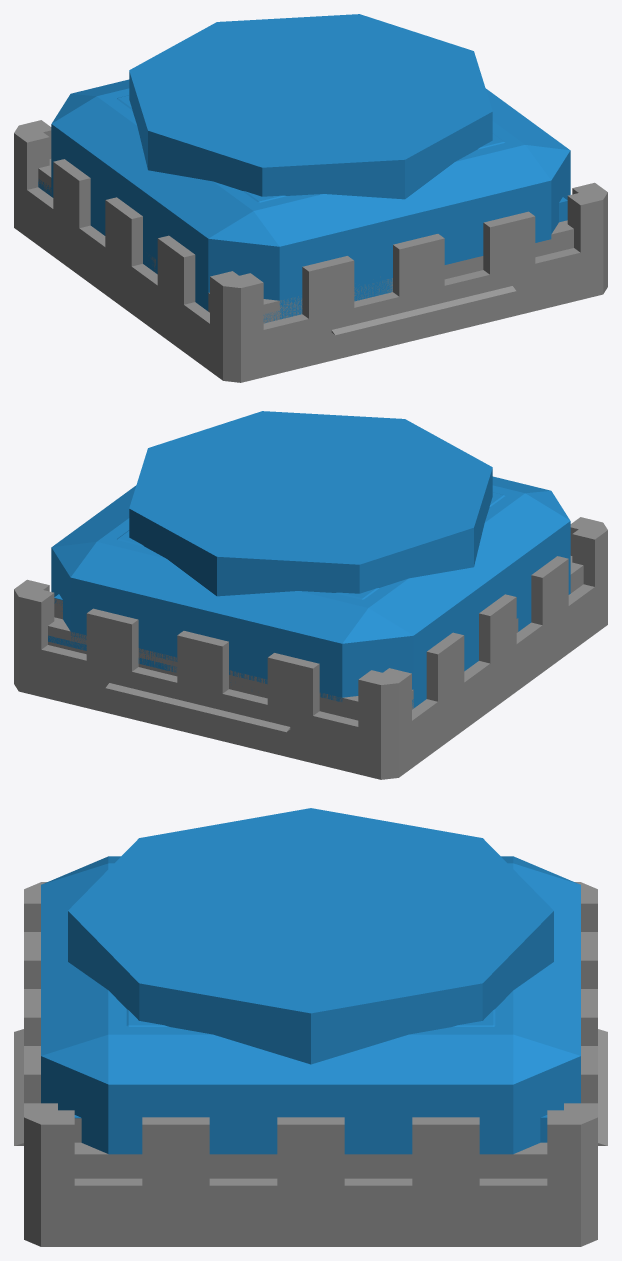
The model's file is ButtonDeluxeExport.FBX.
3 views of the same model, one above another, from view 1: azimuth 30°, elevation 25°; view 2: azimuth 150°, elevation 25°; view 3: azimuth 270°, elevation 25° (orthographic). The views are drawn at different scales.
Visible parts, largest first — view 1: ButtonMeshes17, ButtonMeshes12, ButtonMeshes11, ButtonMeshes32, ButtonMeshes14, ButtonMeshes06; view 2: ButtonMeshes17, ButtonMeshes12, ButtonMeshes11, ButtonMeshes14, ButtonMeshes32, ButtonMeshes06, ButtonMeshes13, ButtonMeshes05; view 3: ButtonMeshes17, ButtonMeshes11, ButtonMeshes12, ButtonMeshes08, ButtonMeshes14, ButtonMeshes32, ButtonMeshes06.
Boxes of the visible parts, x1,y1,x2,y2 form: ButtonMeshes17: (129,14,492,199); ButtonMeshes12: (14,120,607,382); ButtonMeshes11: (51,79,570,319); ButtonMeshes32: (331,286,515,335); ButtonMeshes14: (38,159,573,323); ButtonMeshes06: (208,233,573,312); ButtonMeshes17: (129,411,492,596); ButtonMeshes12: (14,517,607,779); ButtonMeshes11: (51,476,570,708); ButtonMeshes14: (48,556,583,709); ButtonMeshes32: (106,683,290,732); ButtonMeshes06: (159,570,583,720); ButtonMeshes13: (48,635,413,707); ButtonMeshes05: (48,611,267,698); ButtonMeshes17: (68,808,553,1064); ButtonMeshes11: (41,856,580,1154); ButtonMeshes12: (24,882,597,1246); ButtonMeshes08: (74,1160,412,1178); ButtonMeshes14: (74,1142,547,1160); ButtonMeshes32: (14,1029,607,1145); ButtonMeshes06: (256,1160,547,1178).
Size of the model in its own units: 837 by 346 by 866.
